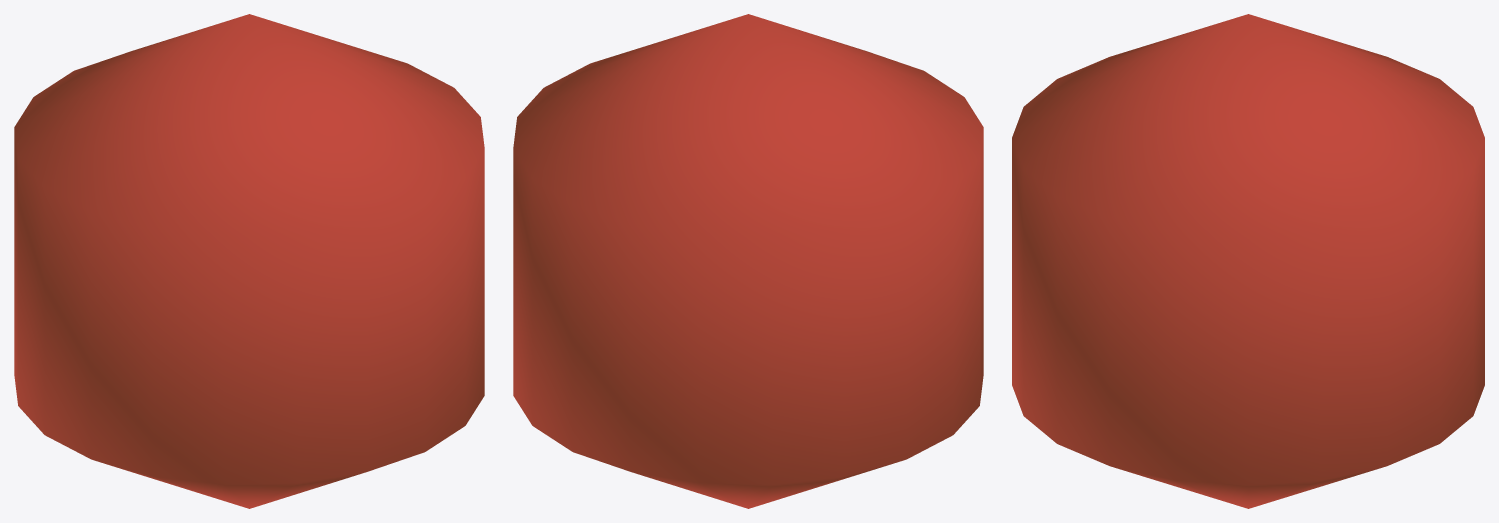
The model's file is RockAttack.fbx.
The picture shows the model from 3 angles, left to right: view 1: azimuth 30°, elevation 25°; view 2: azimuth 150°, elevation 25°; view 3: azimuth 270°, elevation 25°; orthographic projection.
Parts seen in each view (by area): view 1: RockCaster.002; view 2: RockCaster.002; view 3: RockCaster.002.
Boxes of the visible parts, x1,y1,x2,y2 form: RockCaster.002: (14,14,484,508); RockCaster.002: (513,14,983,508); RockCaster.002: (1012,14,1484,508).
Bounding box in the file's own units: 25.16 × 29.05 × 25.16.
